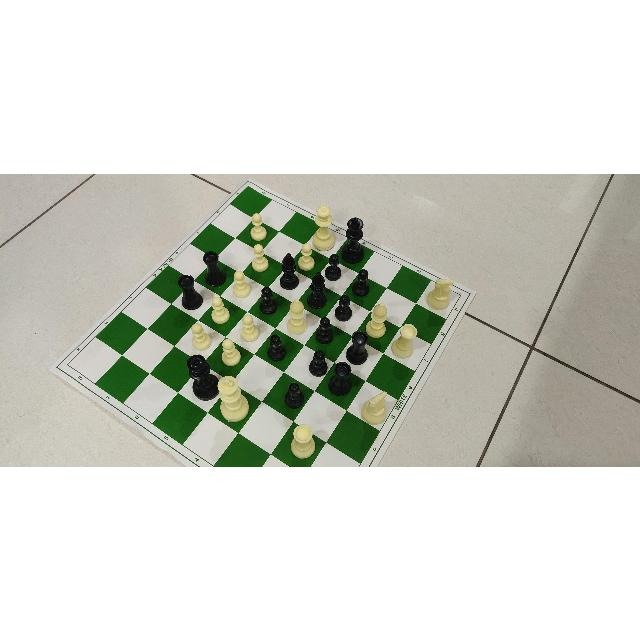black-bishop: (308, 271, 328, 307), (280, 253, 299, 289)
black-king: (343, 216, 363, 259)
black-pawn: (307, 347, 330, 379), (286, 379, 306, 412), (313, 314, 335, 344), (351, 265, 373, 293), (260, 283, 275, 314), (335, 291, 351, 319), (269, 332, 285, 360), (327, 252, 342, 276)
black-queen: (190, 351, 222, 399)
black-rook: (176, 274, 202, 310), (201, 251, 225, 284), (329, 362, 352, 395), (346, 332, 366, 363)
white-bishop: (366, 300, 386, 336), (286, 299, 306, 331)
white-king: (222, 375, 248, 421)
white-knight: (427, 274, 454, 309), (362, 391, 388, 422)
white-pawn: (186, 321, 213, 351), (221, 336, 242, 371), (212, 293, 232, 324), (246, 209, 265, 237), (233, 267, 251, 296), (242, 312, 258, 343), (253, 242, 268, 273), (302, 242, 314, 270)
white-queen: (314, 203, 334, 249)
white-rook: (291, 422, 316, 459), (394, 325, 416, 357)
